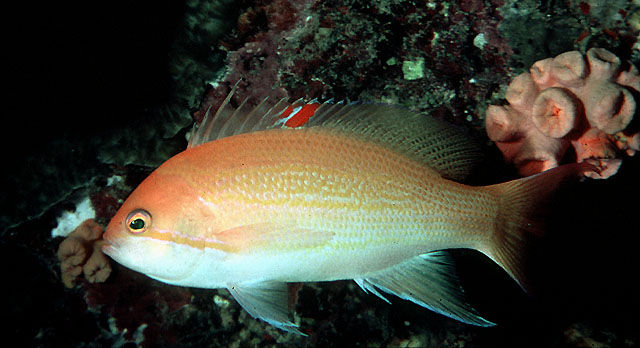fish: (102, 78, 602, 337)
